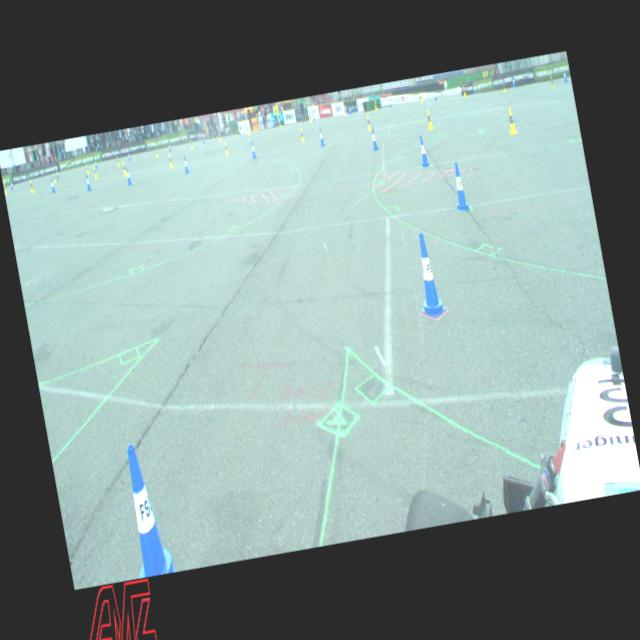blue_cone: (116, 440, 177, 578), (408, 231, 447, 319), (448, 161, 469, 211), (416, 135, 429, 166), (369, 127, 378, 150), (318, 126, 324, 146), (85, 173, 92, 190), (182, 156, 189, 173), (125, 167, 132, 184), (250, 140, 256, 158), (50, 177, 56, 192), (562, 70, 568, 82), (432, 90, 437, 100), (511, 77, 515, 88), (388, 98, 392, 108), (168, 142, 172, 151), (94, 158, 97, 168), (56, 169, 59, 178), (127, 152, 130, 160), (202, 134, 204, 143)
yellow_cone: (505, 107, 517, 135), (426, 108, 434, 130), (365, 114, 371, 130), (167, 152, 173, 168), (121, 160, 127, 174), (548, 74, 554, 88), (92, 165, 98, 178), (299, 128, 304, 142), (29, 179, 34, 192), (224, 141, 228, 155), (373, 100, 378, 110), (462, 85, 466, 96), (419, 91, 423, 102), (3, 183, 7, 194), (52, 172, 56, 182), (86, 164, 90, 174), (278, 118, 282, 128), (343, 106, 347, 116), (154, 148, 158, 157), (218, 132, 222, 141), (116, 157, 120, 166), (502, 83, 506, 92), (308, 114, 312, 122), (190, 139, 193, 148), (247, 126, 250, 135)
